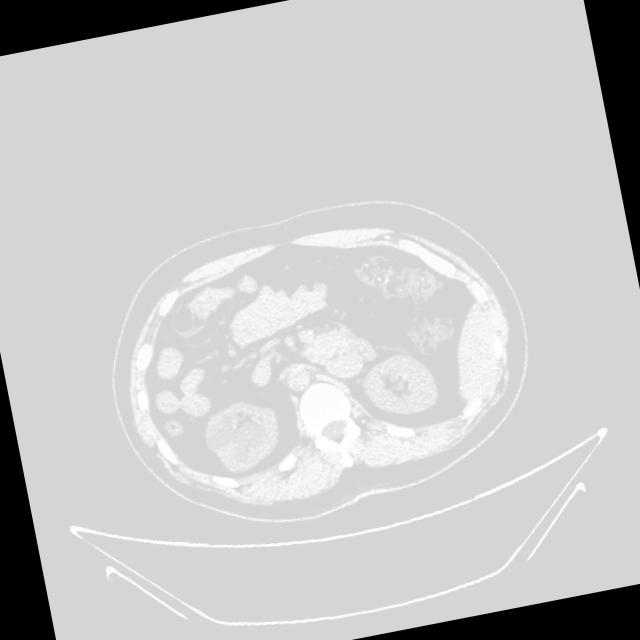cysts: (87, 174, 553, 550)
